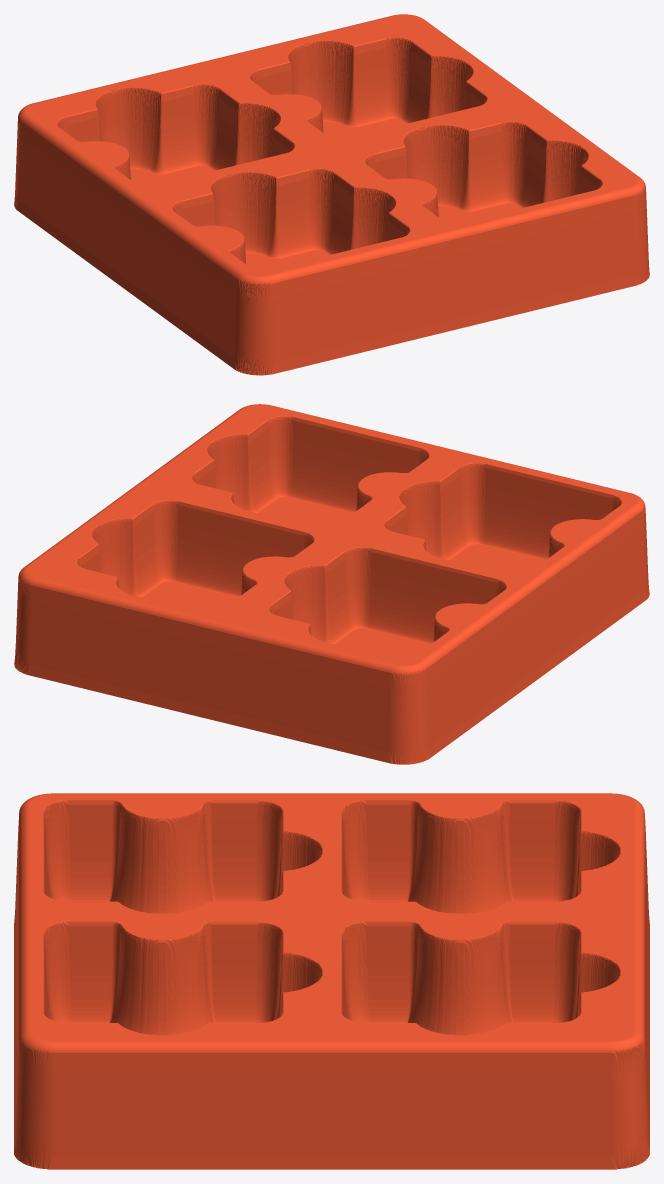
The model's file is mold.glb.
The picture shows the model from 3 angles, top to bottom: view 1: azimuth 30°, elevation 25°; view 2: azimuth 150°, elevation 25°; view 3: azimuth 270°, elevation 25°; orthographic projection. The views are drawn at different scales.
Visible parts, largest first — view 1: geometry_0; view 2: geometry_0; view 3: geometry_0.
Boxes of the visible parts, x1=… form: geometry_0: x1=14, y1=14, x2=649, y2=375; geometry_0: x1=14, y1=404, x2=649, y2=764; geometry_0: x1=14, y1=793, x2=649, y2=1169.
Bounding box in the file's own units: 0.1417 × 0.031 × 0.1466.
